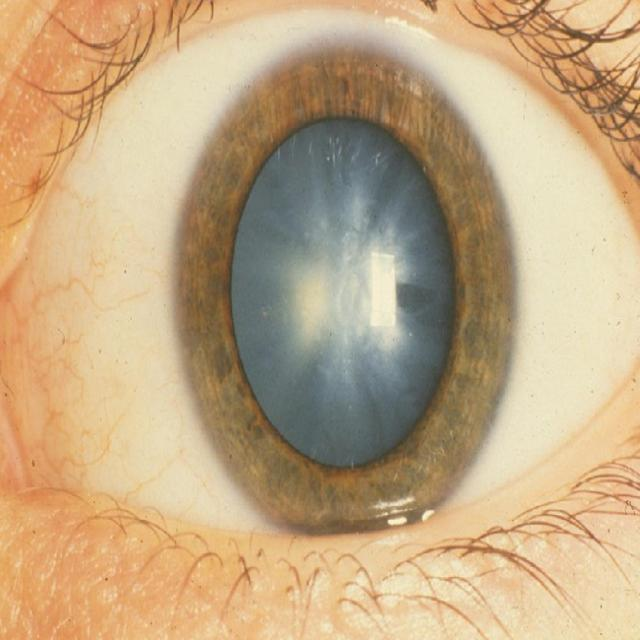Cataract: (171, 39, 518, 554)
